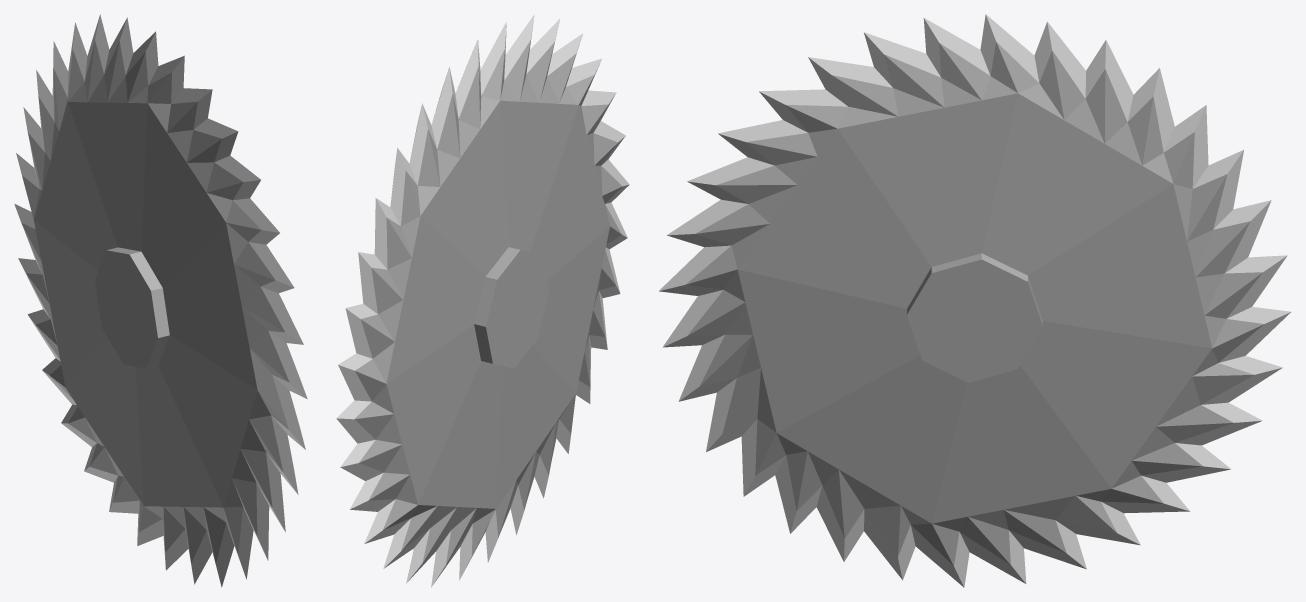
The model's file is circular_saw.fbx.
3 views of the same model, side by side, from view 1: azimuth 30°, elevation 25°; view 2: azimuth 150°, elevation 25°; view 3: azimuth 270°, elevation 25° (orthographic). The views are drawn at different scales.
Visible parts, largest first — view 1: circular_saw; view 2: circular_saw; view 3: circular_saw.
Part boxes in pixels (left/top/right/bottom): circular_saw: left=14, top=14, right=307, bottom=587; circular_saw: left=336, top=14, right=629, bottom=587; circular_saw: left=659, top=14, right=1291, bottom=587.
Size of the model in its own units: 13.23 by 92.52 by 92.54.
